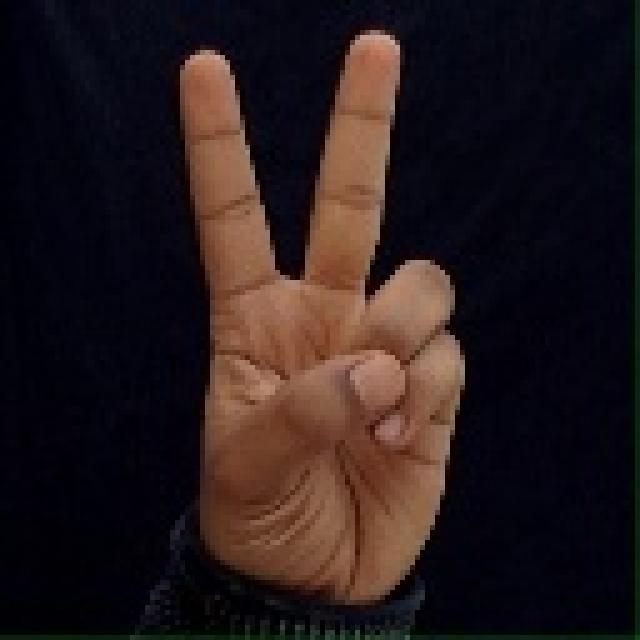No: (159, 15, 483, 640)
